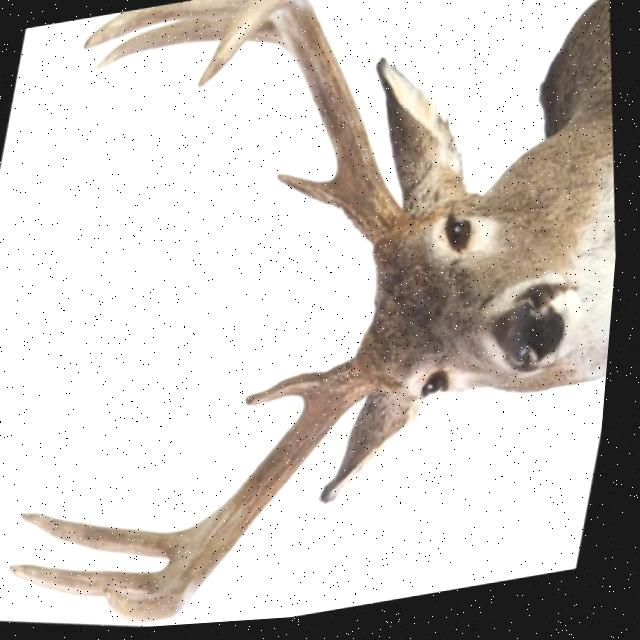L-F: (115, 359, 383, 624)
L-G1: (250, 373, 335, 411)
L-G2: (29, 512, 200, 561)
R-F: (198, 0, 426, 250)
R-G1: (278, 175, 346, 216)
